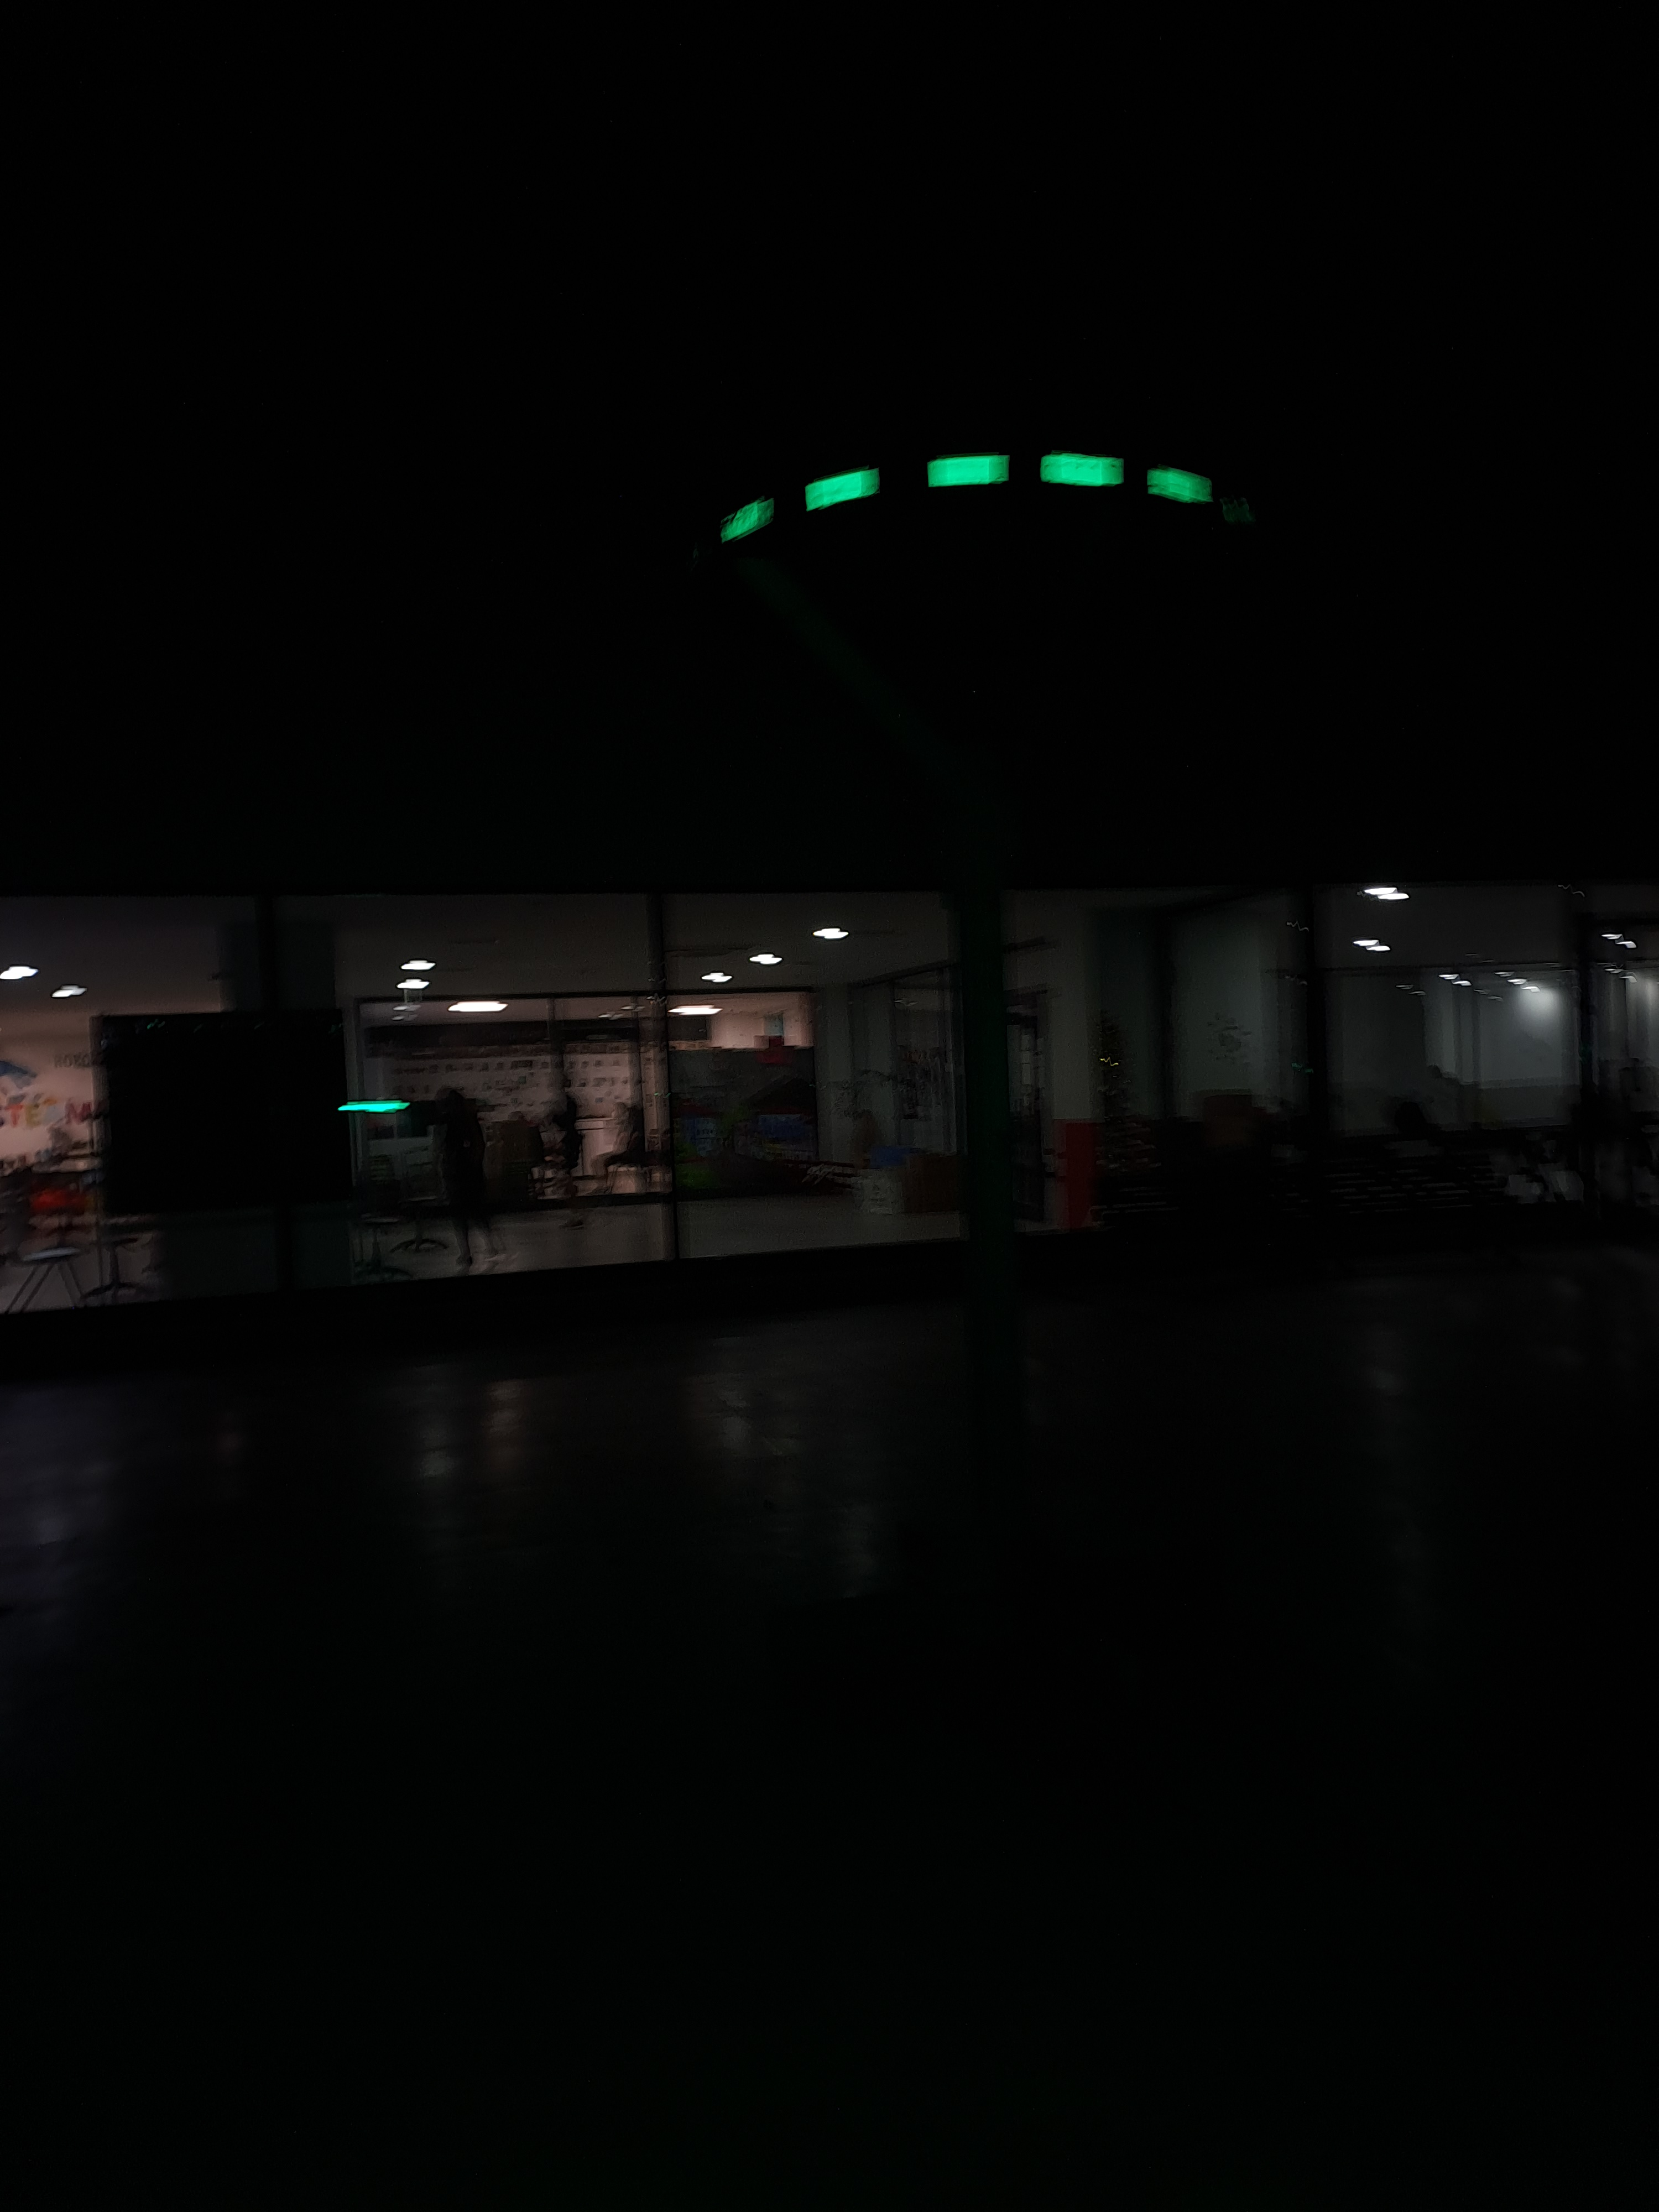hoop: (702, 442, 1227, 563)
